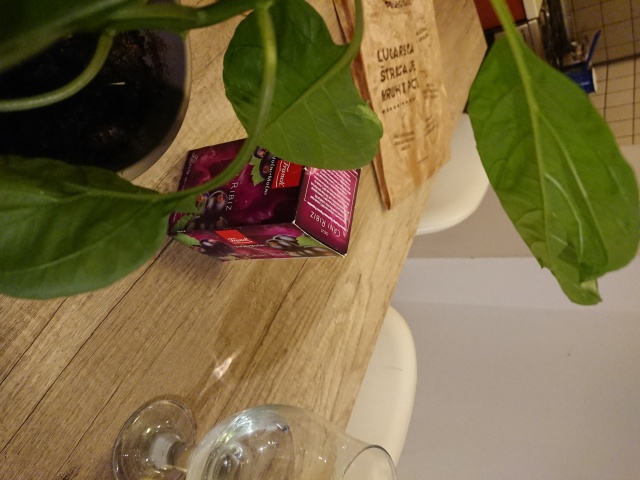Franck Black Currant Tea 60g: (163, 125, 364, 263)
